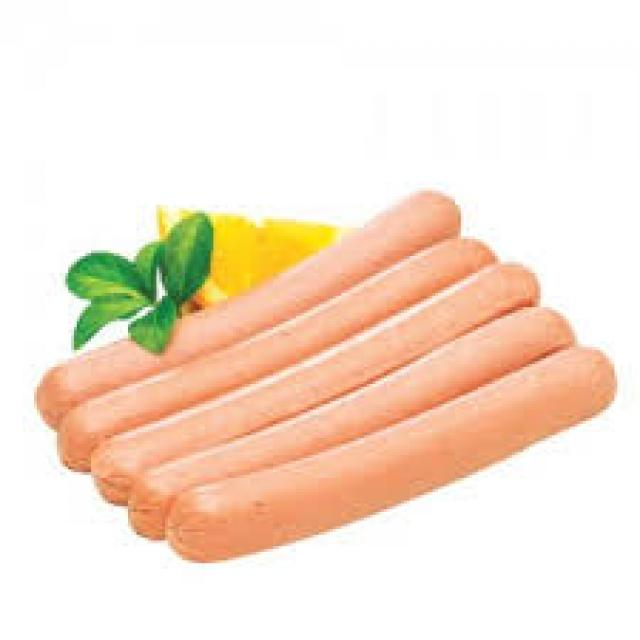sausage: (35, 187, 618, 577)
